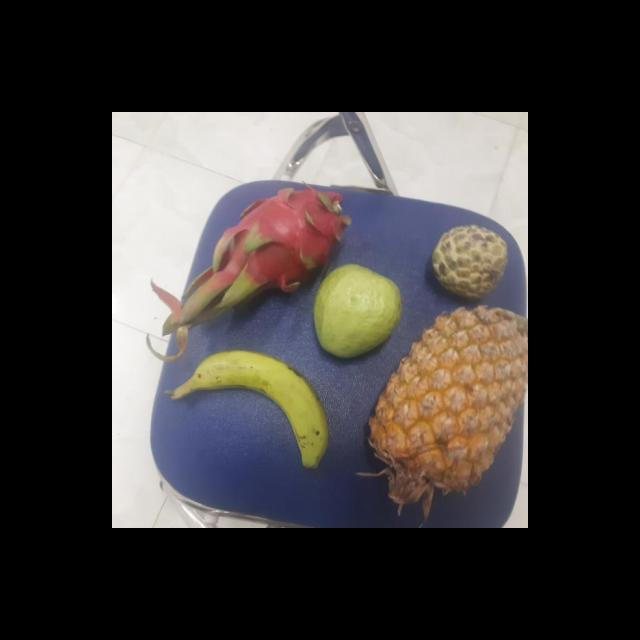Sakya fruit: (428, 225, 508, 303)
banana: (170, 349, 328, 463)
guava: (310, 267, 402, 358)
pitaya: (226, 187, 346, 300)
